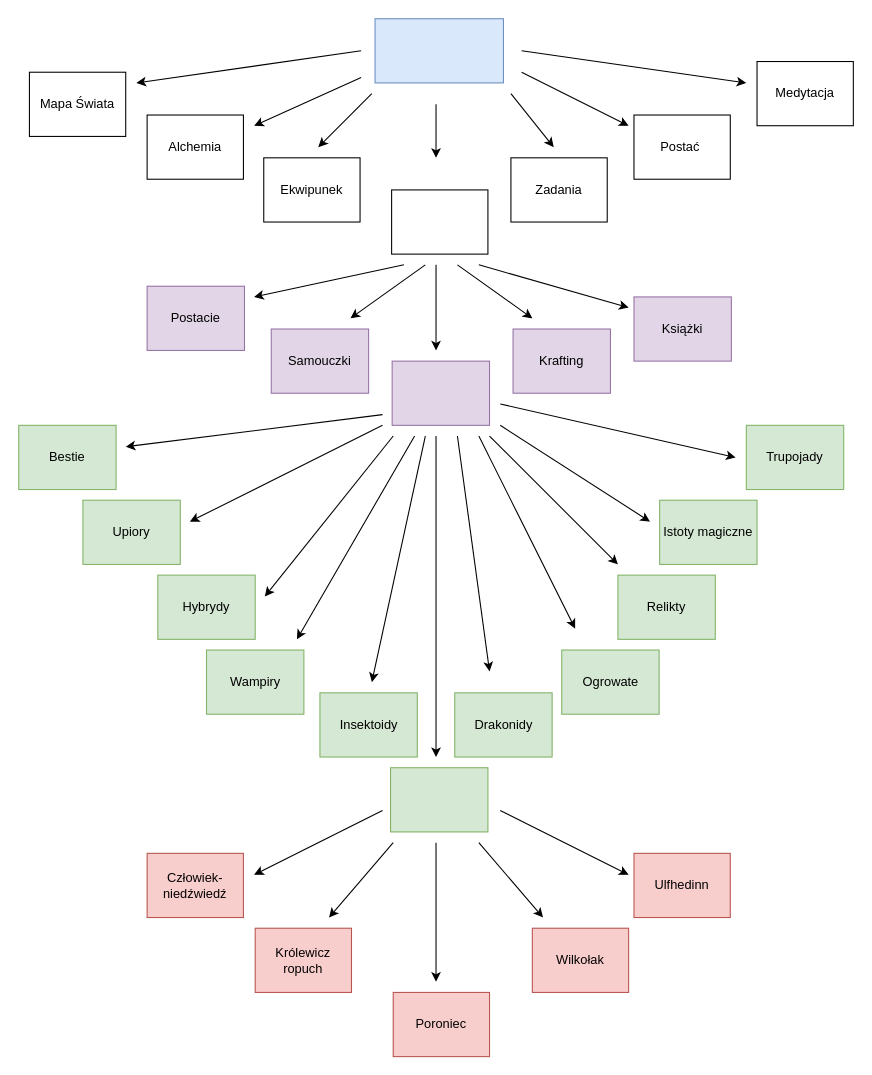
The diagram is 872 pixels wide and 1075 high, and some of its shapes have lost their labels. The shapes that lost their labels are listed below. From the top down, each one's box as (x1, y1, x2, y2) in pixels, then its label:
(374, 18, 503, 83): Wiedźmin 3 Menu Gry
(391, 189, 488, 254): Glosiariusz
(391, 360, 490, 425): Bestiariusz
(389, 767, 488, 832): Istoty przeklęte
